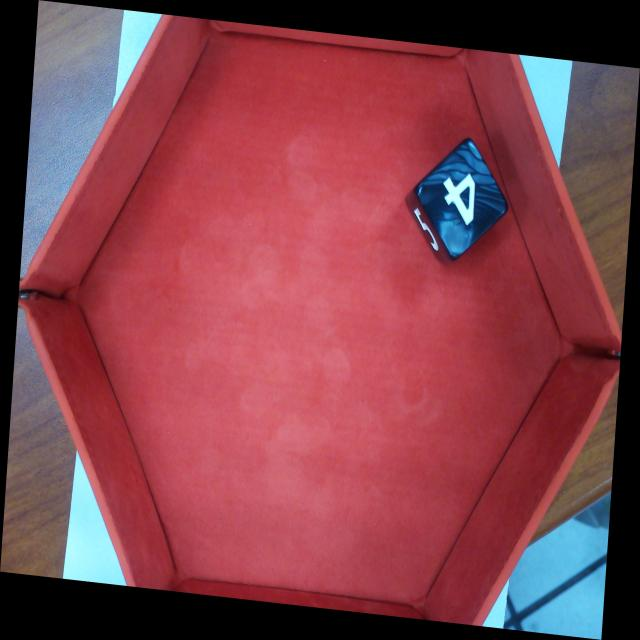dice: (411, 134, 511, 264)
